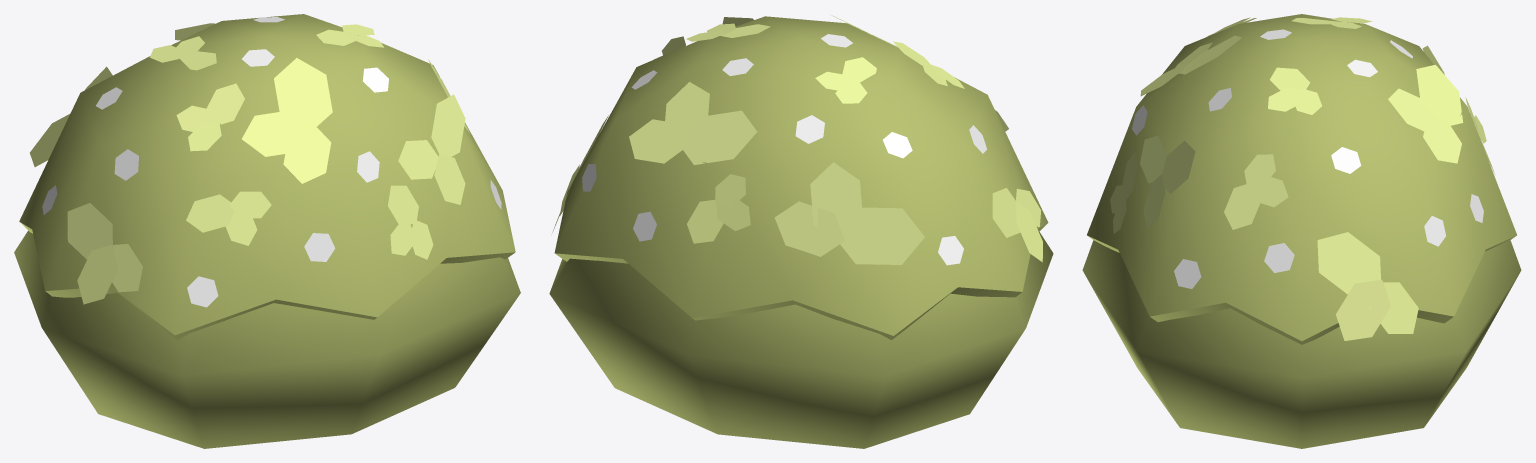
File: LeafBushModel.fbx
The picture shows the model from 3 angles, left to right: view 1: azimuth 30°, elevation 25°; view 2: azimuth 150°, elevation 25°; view 3: azimuth 270°, elevation 25°; orthographic projection. The views are drawn at different scales.
Parts seen in each view (by area): view 1: bushTop, bushBottom, flowers, flowers2; view 2: bushTop, bushBottom, flowers, flowers2; view 3: bushTop, bushBottom, flowers, flowers2.
Part boxes in pixels (x1,y1,x2,y2): bushTop: (19,14,515,340); bushBottom: (14,230,520,448); flowers: (30,23,470,304); flowers2: (42,17,501,307); bushTop: (554,16,1048,339); bushBottom: (549,232,1053,448); flowers: (552,15,1042,264); flowers2: (582,34,986,265); bushTop: (1087,14,1516,344); bushBottom: (1082,240,1521,448); flowers: (1110,17,1495,340); flowers2: (1132,29,1483,288).
Size of the model in its own units: 0.9666 by 0.6904 by 0.8321.
